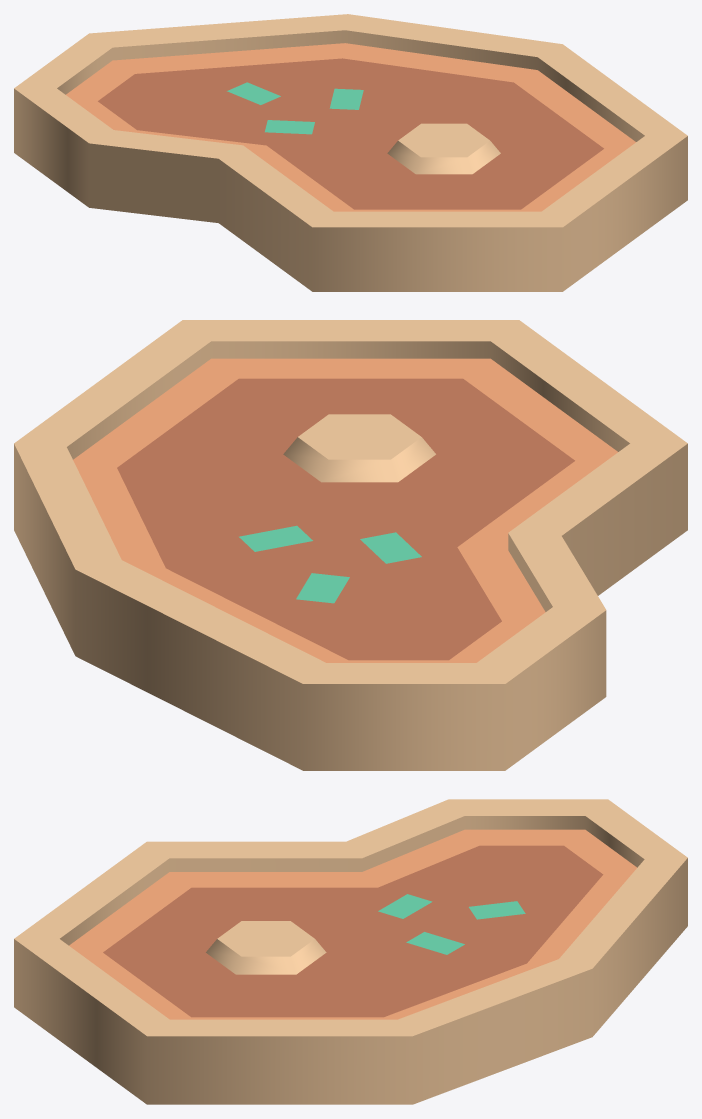
The model's file is meatCooked.GLB.
3 views of the same model, one above another, from view 1: azimuth 30°, elevation 25°; view 2: azimuth 150°, elevation 25°; view 3: azimuth 270°, elevation 25° (orthographic). The views are drawn at different scales.
Visible parts, largest first — view 1: meatCooked; view 2: meatCooked; view 3: meatCooked.
Boxes of the visible parts, x1,y1,x2,y2 form: meatCooked: (14, 14, 687, 291); meatCooked: (14, 320, 687, 770); meatCooked: (14, 799, 687, 1104).
Size of the model in its own units: 0.4785 by 0.0645 by 0.5754.
